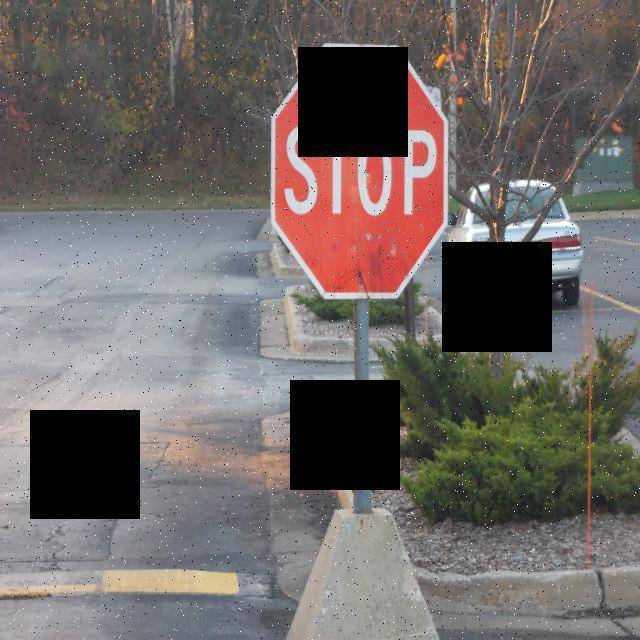stop: (267, 44, 451, 299)
